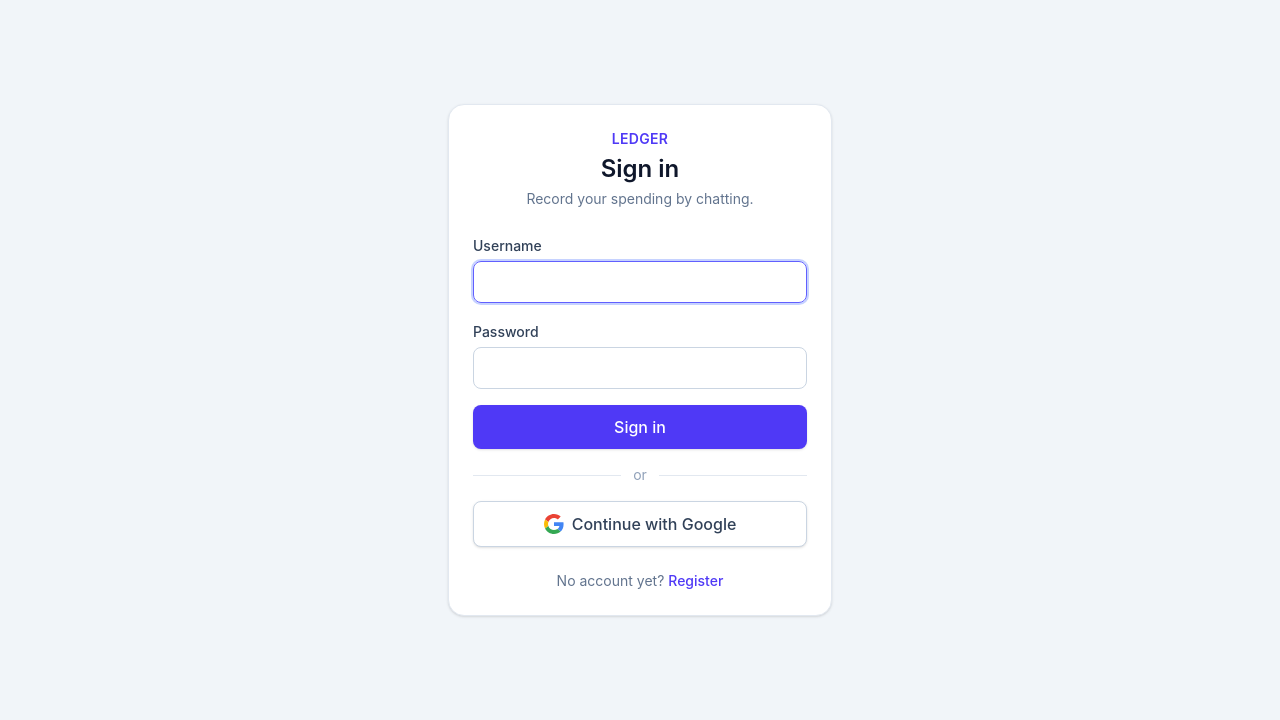
Test: given alice on the chat page › gets a new access token when the old one has expired
Type "alice" into the field labelled "Username" at (640, 282), box [473,261,807,303]
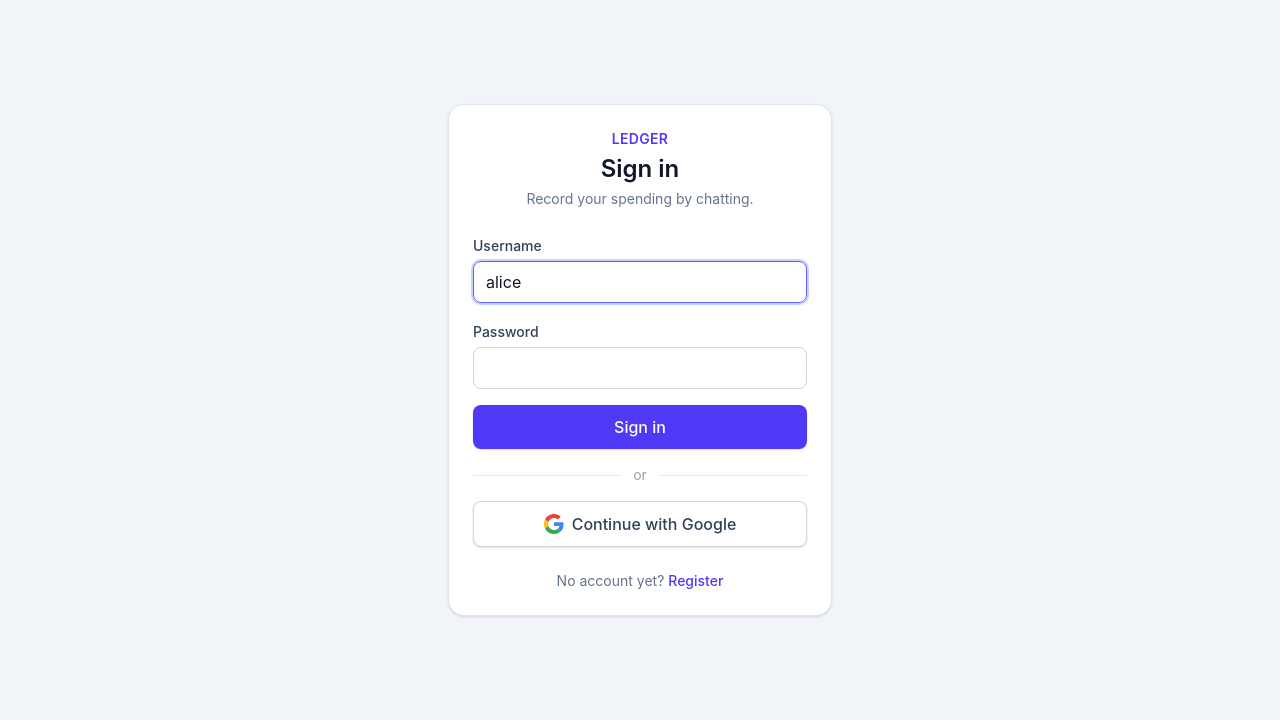
Type "alice-password" into the password field labelled "Password" at (640, 368), box [473,347,807,389]
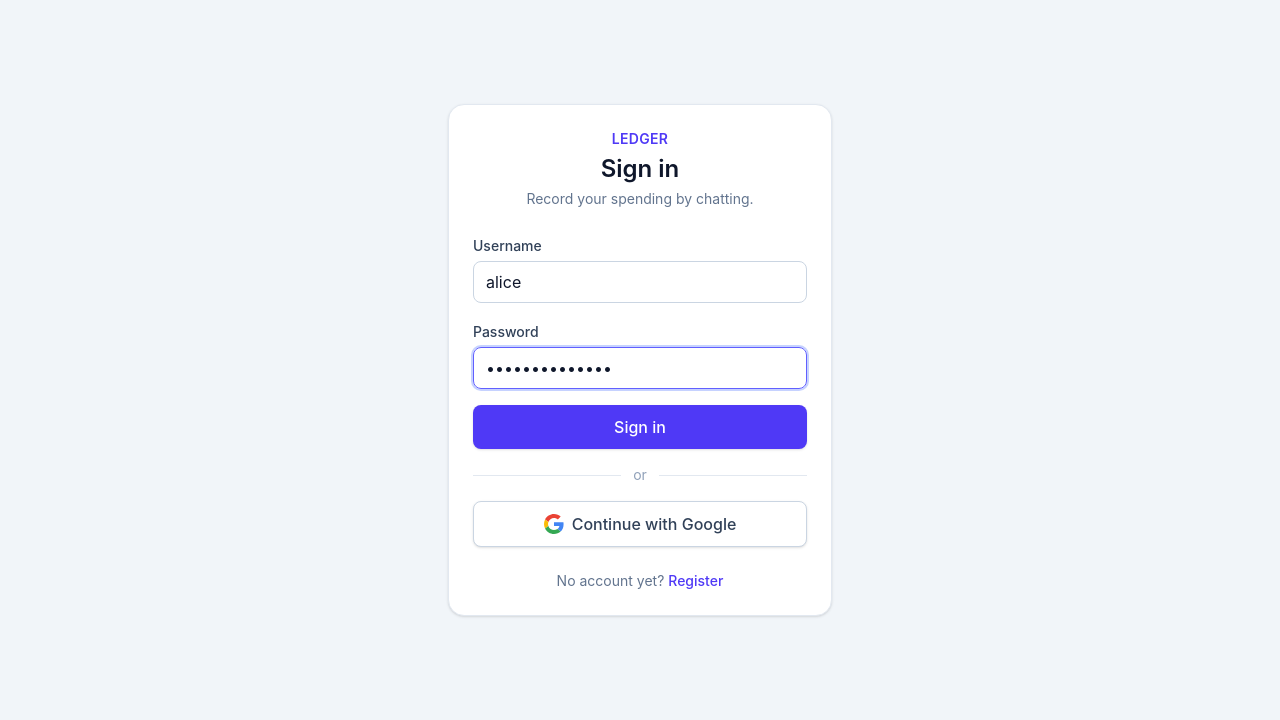
Click the button "Sign in" at (640, 427), box [473,405,807,449]
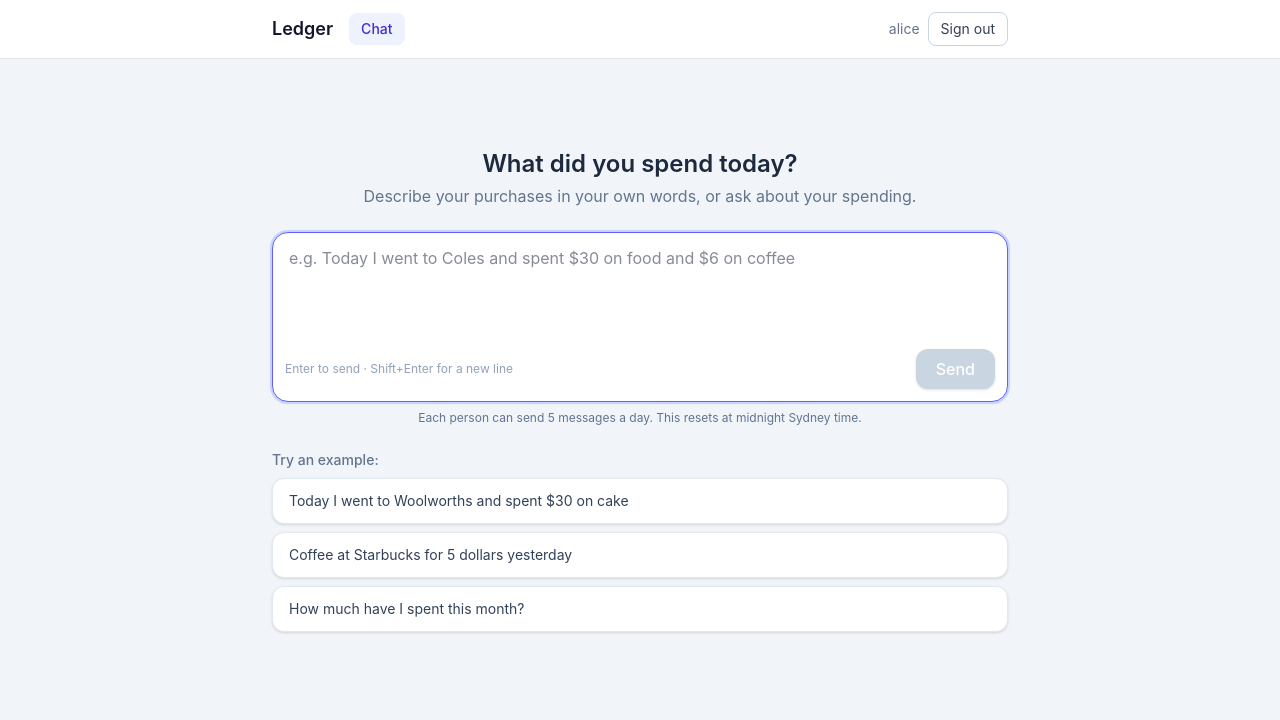
Type "Spent $6 on coffee" into the text box named "describe your spending" at (640, 290), box [273,232,1007,348]
Then press Enter
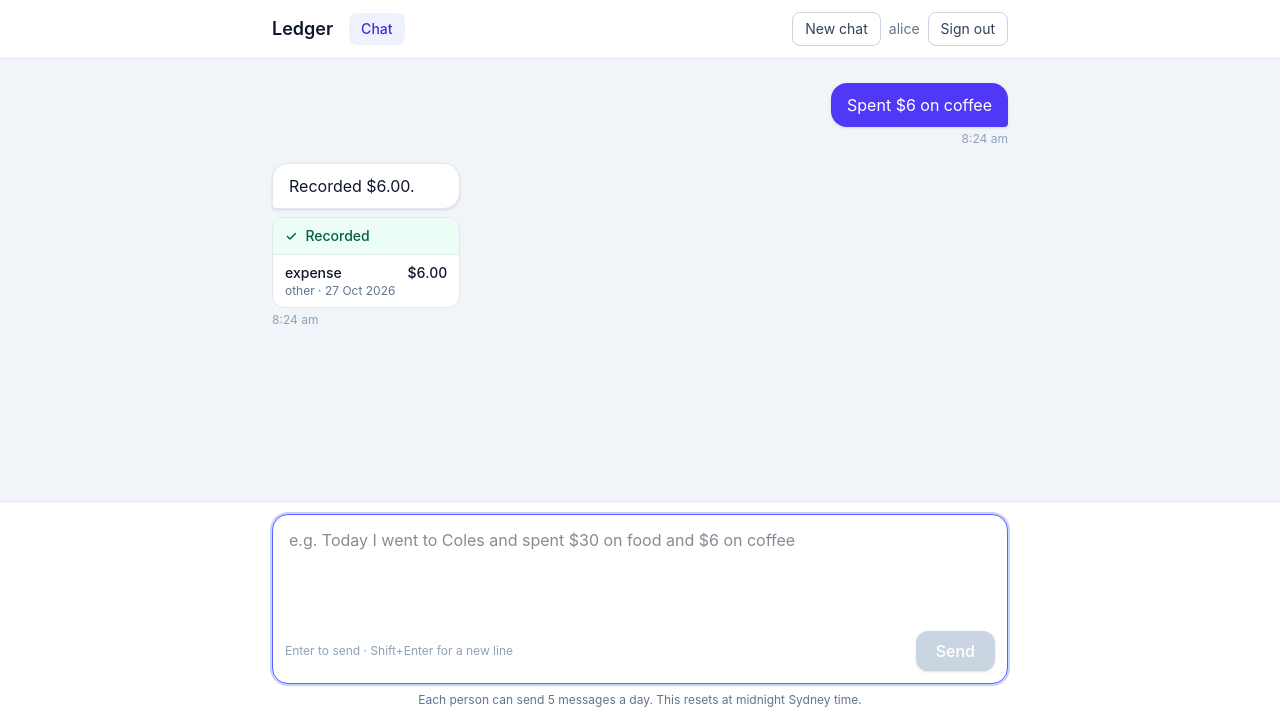
Expected: the text "Recorded $6.00." is shown, [289,176,414,196]
